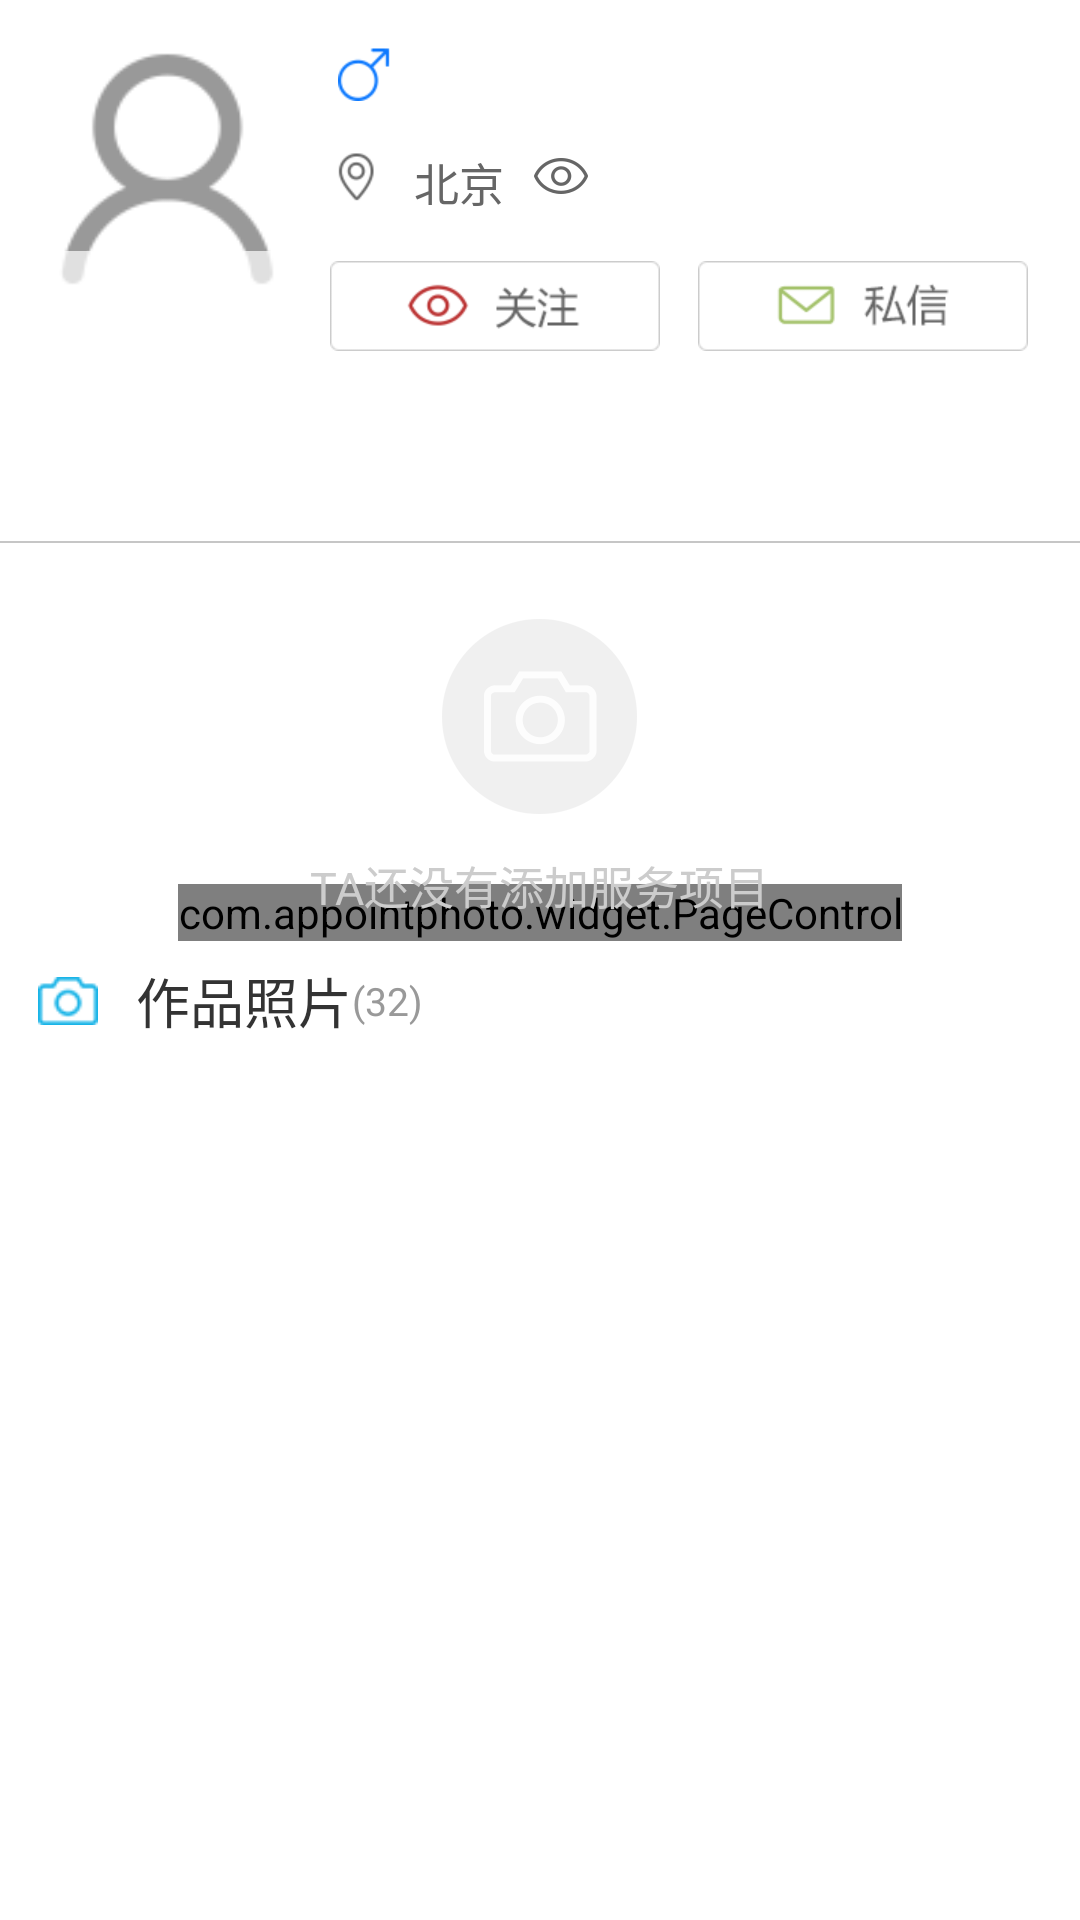

Point at icon controls on the screen. Image size 1080×1920, points as [x,y].
personal location: [356,176]
personal male: [364,74]
personal photo: [68,1001]
